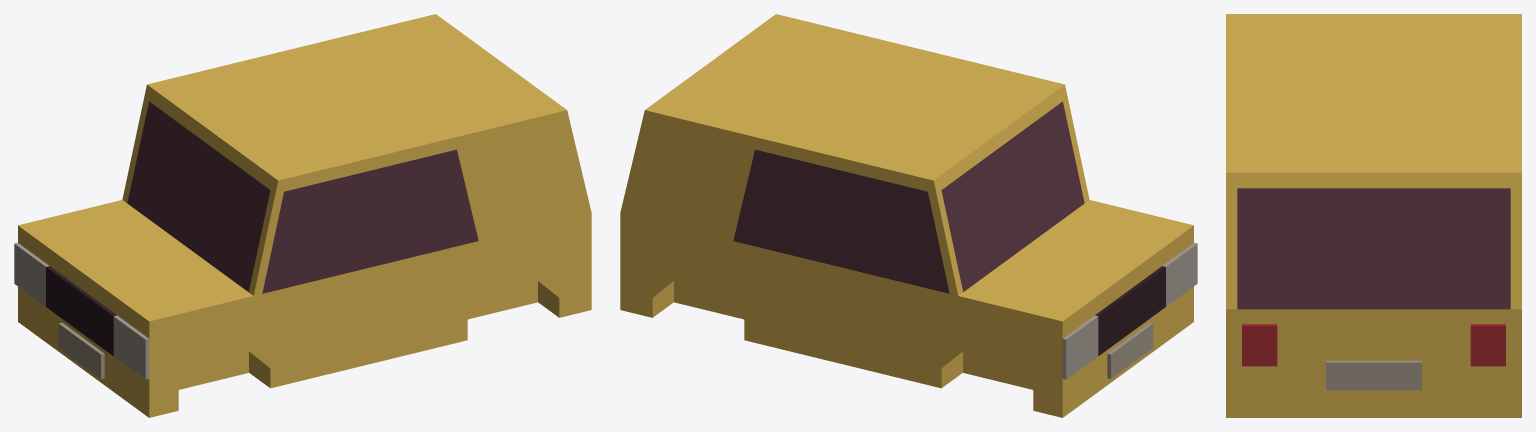
File: Suv_Yellow.fbx
3 renders of one model, left to right at view 1: azimuth 30°, elevation 25°; view 2: azimuth 150°, elevation 25°; view 3: azimuth 270°, elevation 25°, orthographic. The views are drawn at different scales.
Visible parts, largest first — view 1: Suv_Yellow, Suv_Lights; view 2: Suv_Yellow, Suv_Lights; view 3: Suv_Yellow, Suv_Lights.
Boxes of the visible parts, bbox=[...] form: Suv_Yellow: bbox=[18, 14, 591, 417]; Suv_Lights: bbox=[14, 242, 149, 379]; Suv_Yellow: bbox=[620, 14, 1193, 417]; Suv_Lights: bbox=[1062, 242, 1197, 379]; Suv_Yellow: bbox=[1226, 14, 1521, 417]; Suv_Lights: bbox=[1242, 324, 1505, 366].
Size of the model in its own units: 3.66 by 1.6 by 1.85.
